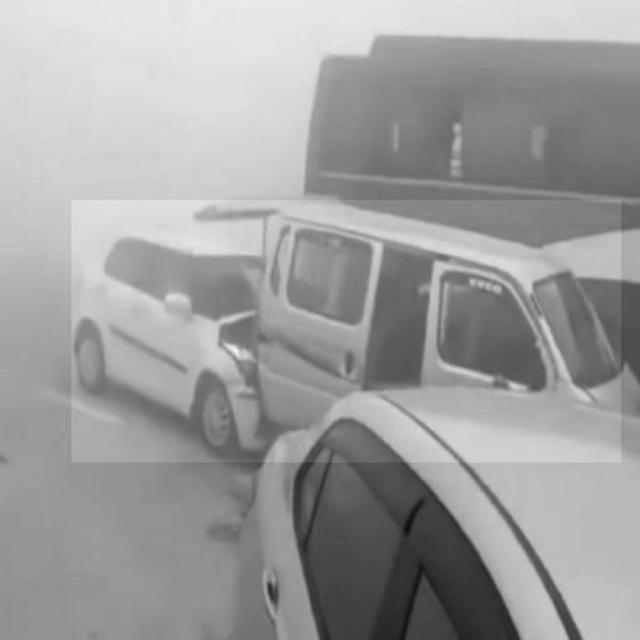accident: (72, 200, 622, 462)
